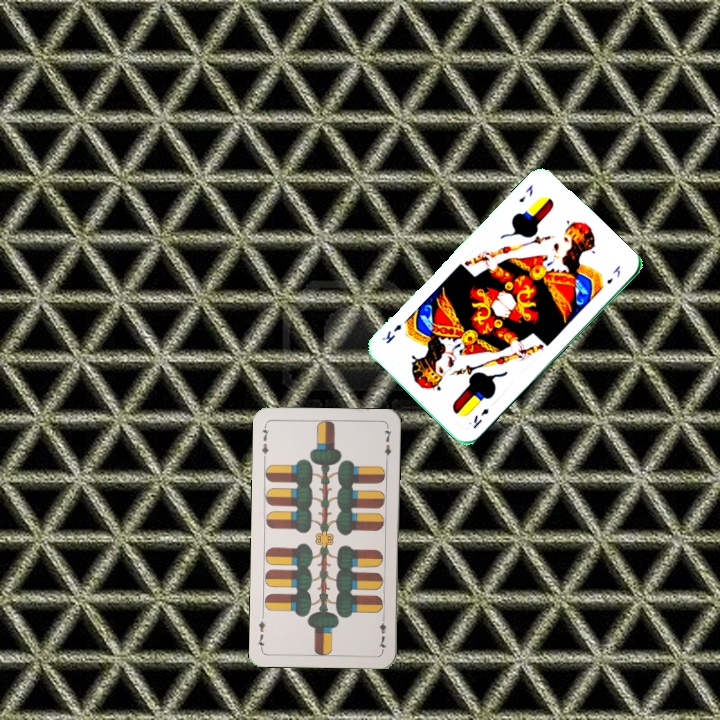E7: (375, 612, 389, 653), (257, 421, 271, 462)
EK: (469, 404, 491, 431), (515, 181, 536, 205)
